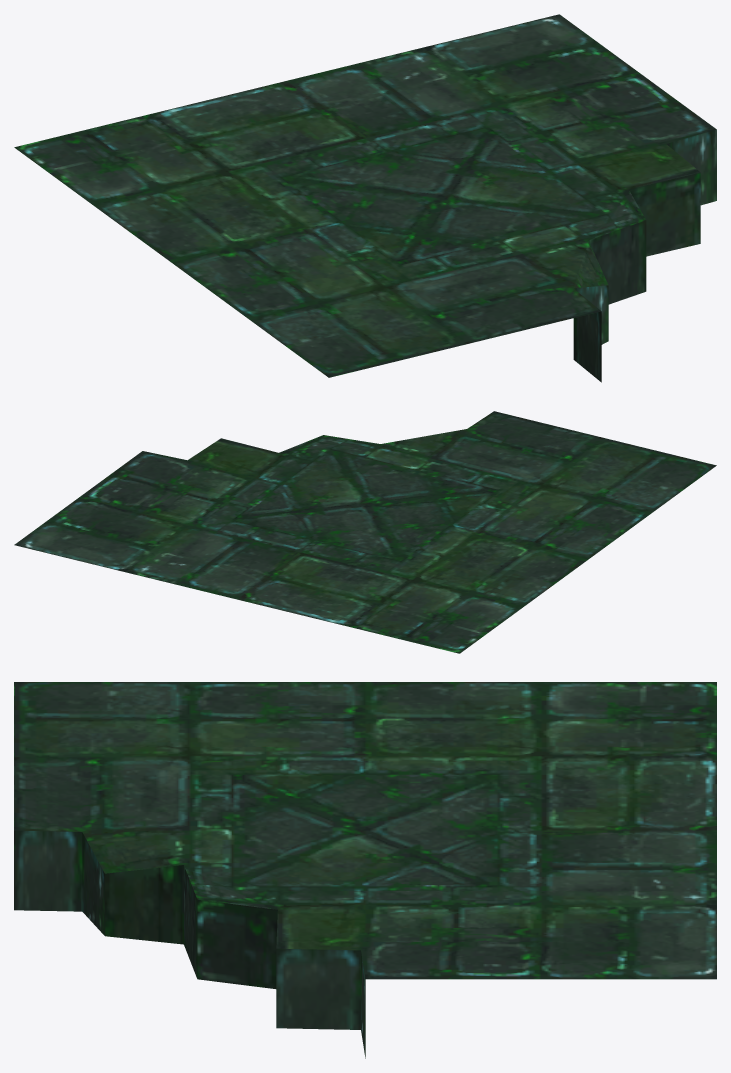
The model's file is stemple_floor_convex_noshadow_03.fbx.
The picture shows the model from 3 angles, top to bottom: view 1: azimuth 30°, elevation 25°; view 2: azimuth 150°, elevation 25°; view 3: azimuth 270°, elevation 25°; orthographic projection. The views are drawn at different scales.
Parts seen in each view (by area): view 1: obj0.435; view 2: obj0.435; view 3: obj0.435.
Boxes of the visible parts, box(x1,y1,x2,y2) form: obj0.435: box(14, 14, 716, 382); obj0.435: box(14, 411, 716, 653); obj0.435: box(14, 682, 716, 1058).
Size of the model in its own units: 4 by 0.5 by 4.
